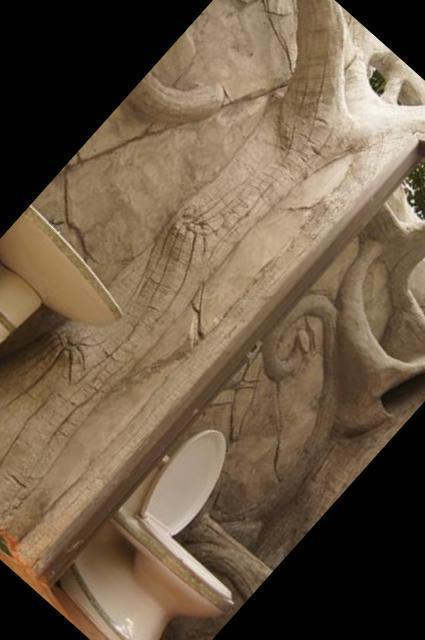Lavamanos: (0, 153, 147, 358)
Sanitario: (37, 403, 317, 640)
